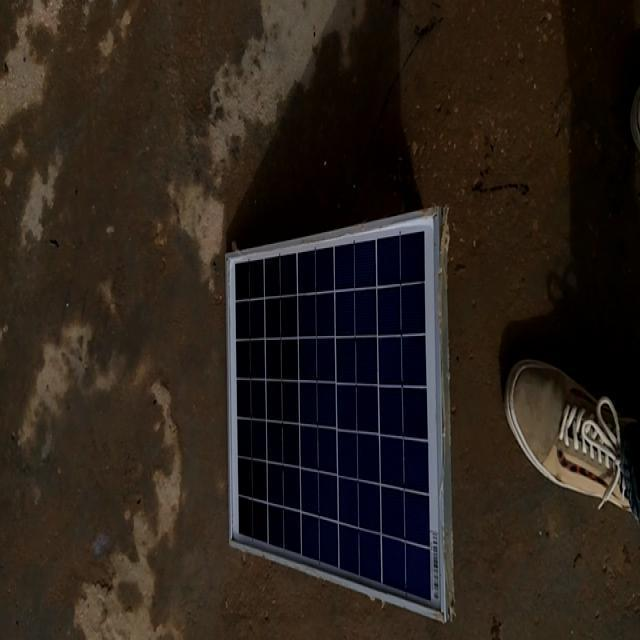Normal Solar Panel: (227, 210, 453, 620)
